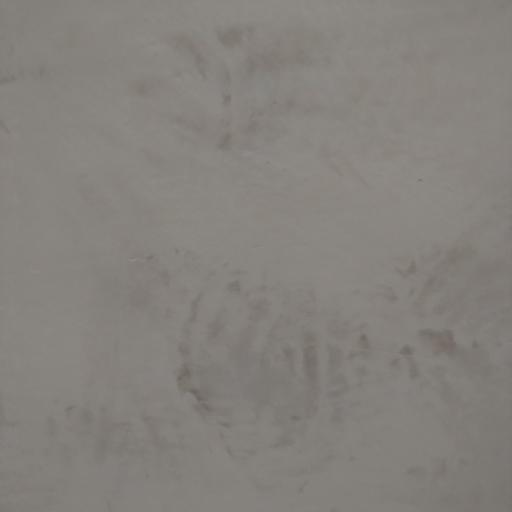stain: (53, 190, 512, 499), (91, 9, 512, 176)
